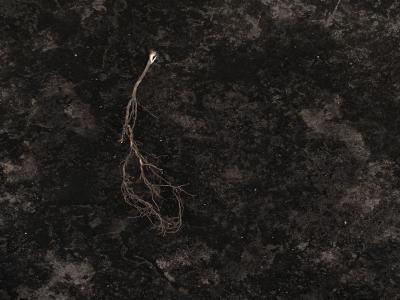Root: (121, 51, 184, 233)
